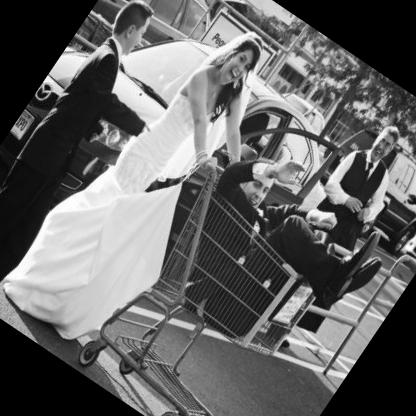car: (1, 1, 363, 323)
